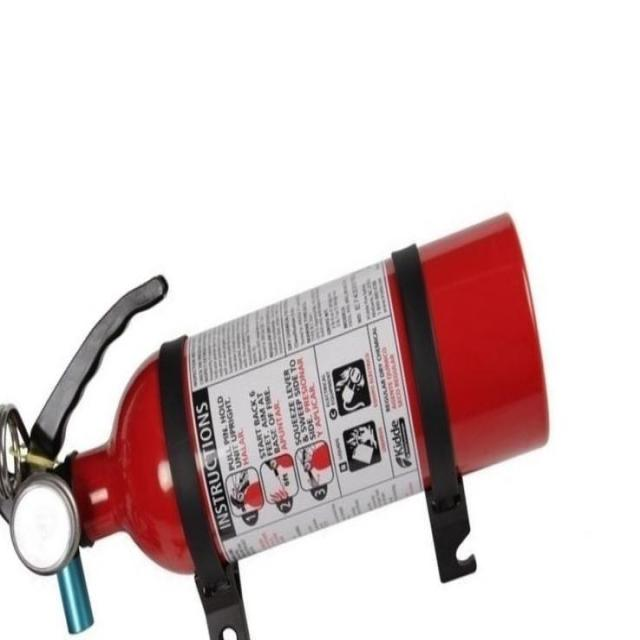fire_extinguisher: (0, 203, 555, 639)
